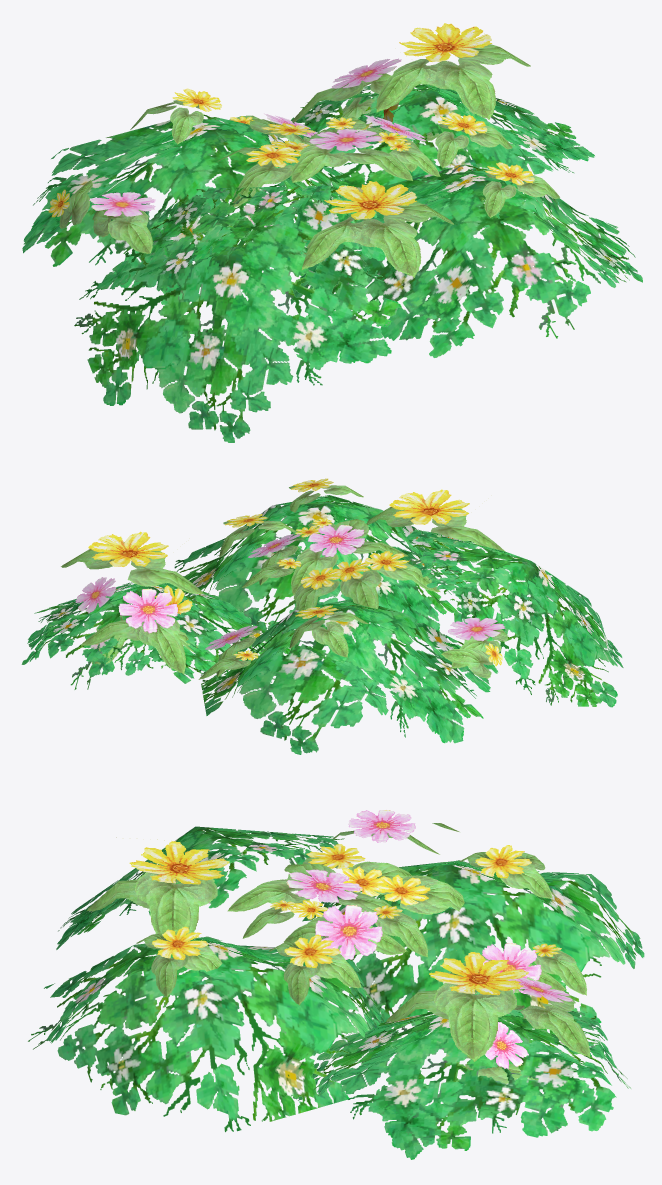
The model's file is nml-bd031.glb.
3 views of the same model, one above another, from view 1: azimuth 30°, elevation 25°; view 2: azimuth 150°, elevation 25°; view 3: azimuth 270°, elevation 25° (orthographic). The views are drawn at different scales.
Parts seen in each view (by area): view 1: geom_node_0; view 2: geom_node_0; view 3: geom_node_0.
Part boxes in pixels (x1,y1,x2,y2): geom_node_0: [22, 23, 642, 442]; geom_node_0: [21, 478, 623, 754]; geom_node_0: [28, 810, 644, 1159].
Size of the model in its own units: 6.93 by 2.03 by 5.92.
Materials: 2 (2 with a texture image).
